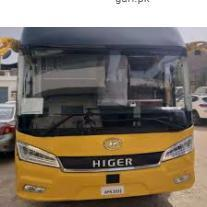bus: (2, 25, 196, 201)
